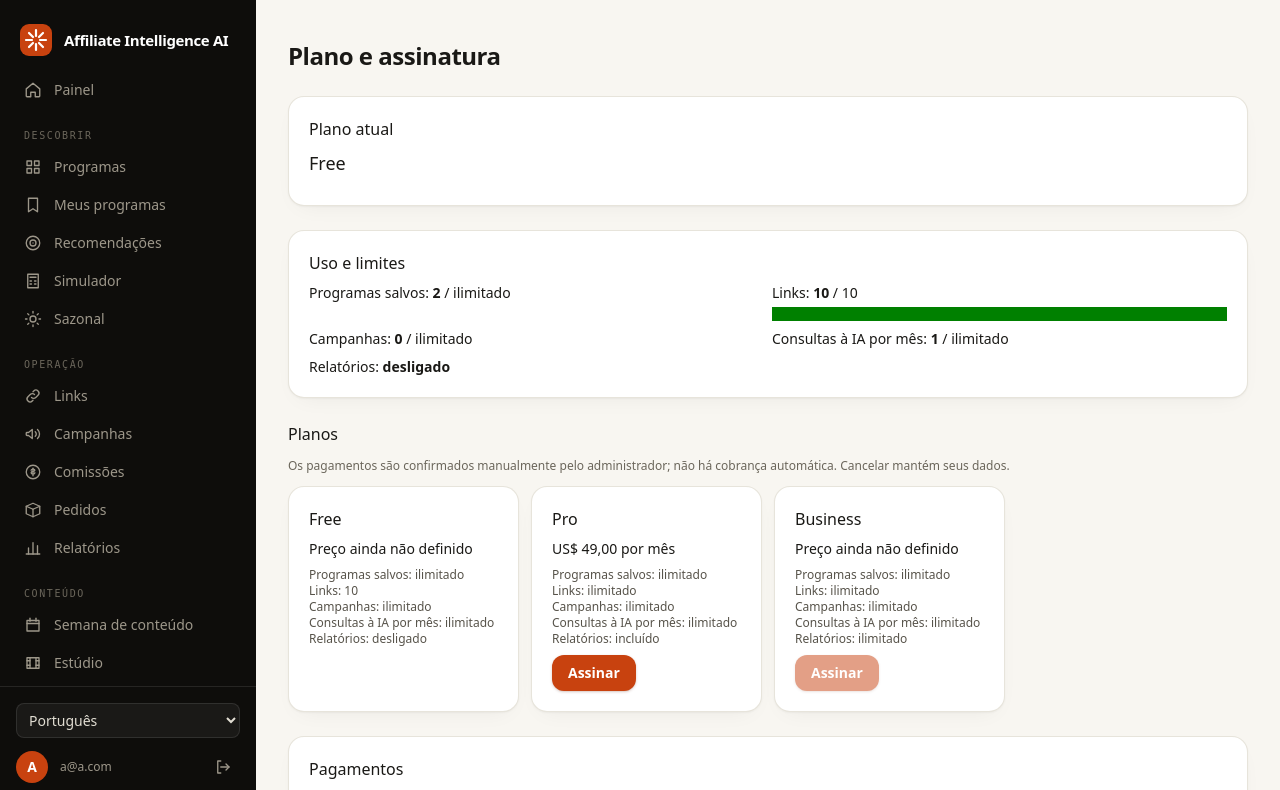
Scenario: plano e assinatura › mostra uso e limites, desabilita plano sem preço e assina o plano com preço
Expected: the heading "Plano e assinatura" is shown, left=288, top=39, right=501, bottom=72
Expected: the button "Assinar" below "Business" is disabled, left=795, top=655, right=879, bottom=691
Click the button "Assinar" below "incluído" at (594, 673), box left=552, top=655, right=636, bottom=691
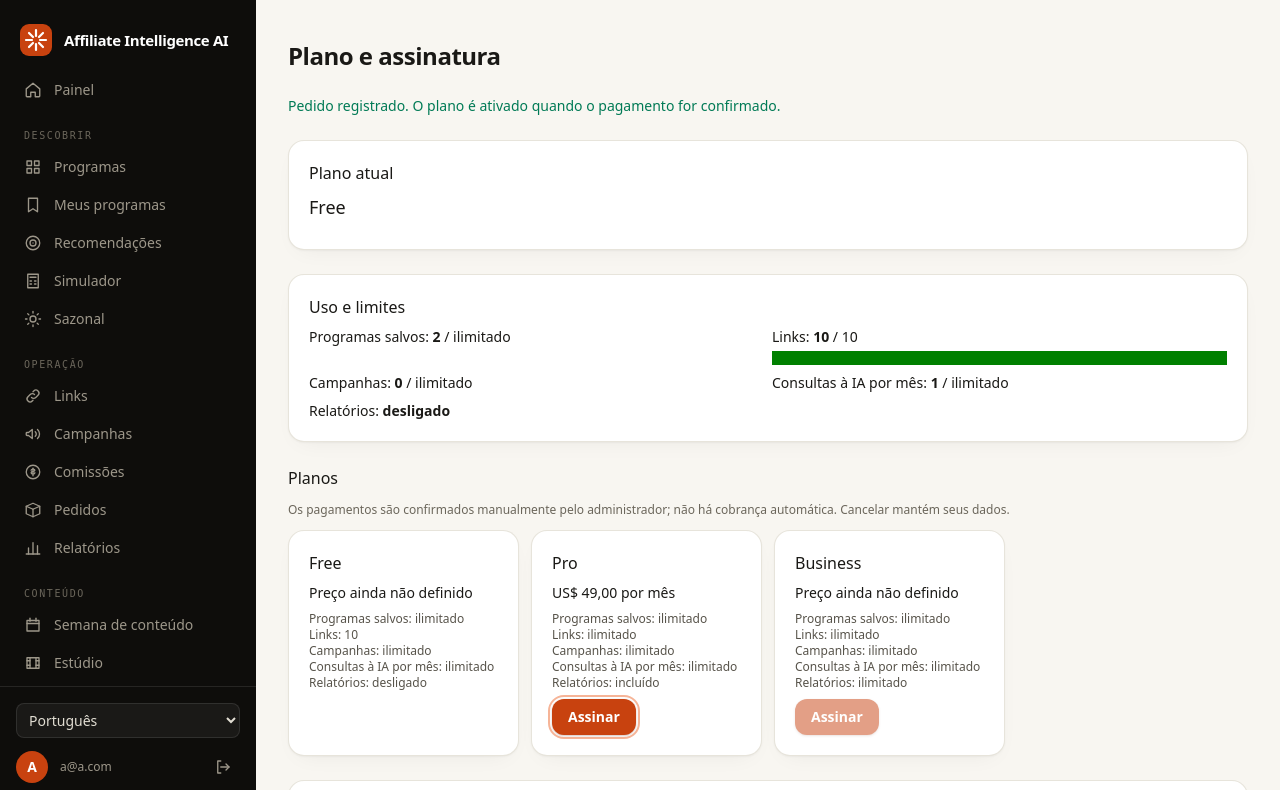
Expected: the text "confirmados manualmente" is shown, left=288, top=501, right=1010, bottom=518
Now the text "Pedido registrado. O plano é ativado quando o pagamento for confirmado." is shown, box left=288, top=96, right=780, bottom=115
